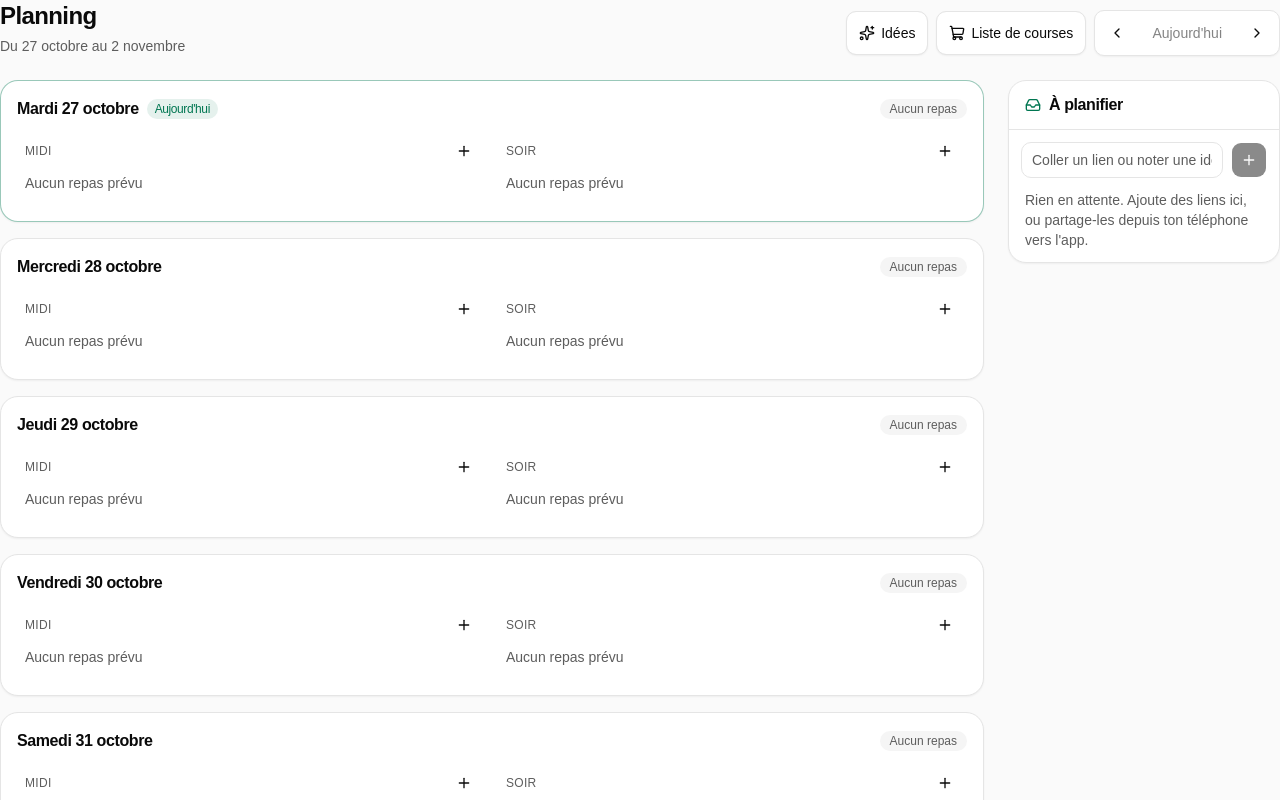
it: PlanningPage — idées de repas › ignore une idée déjà dans « À planifier », et garde la fenêtre ouverte en cas d’erreur
What coordinates should you click on to do the following:
click the button with aria-label "Idées de repas"
I would click on:
 (887, 33)
Its box is [846, 11, 928, 55].
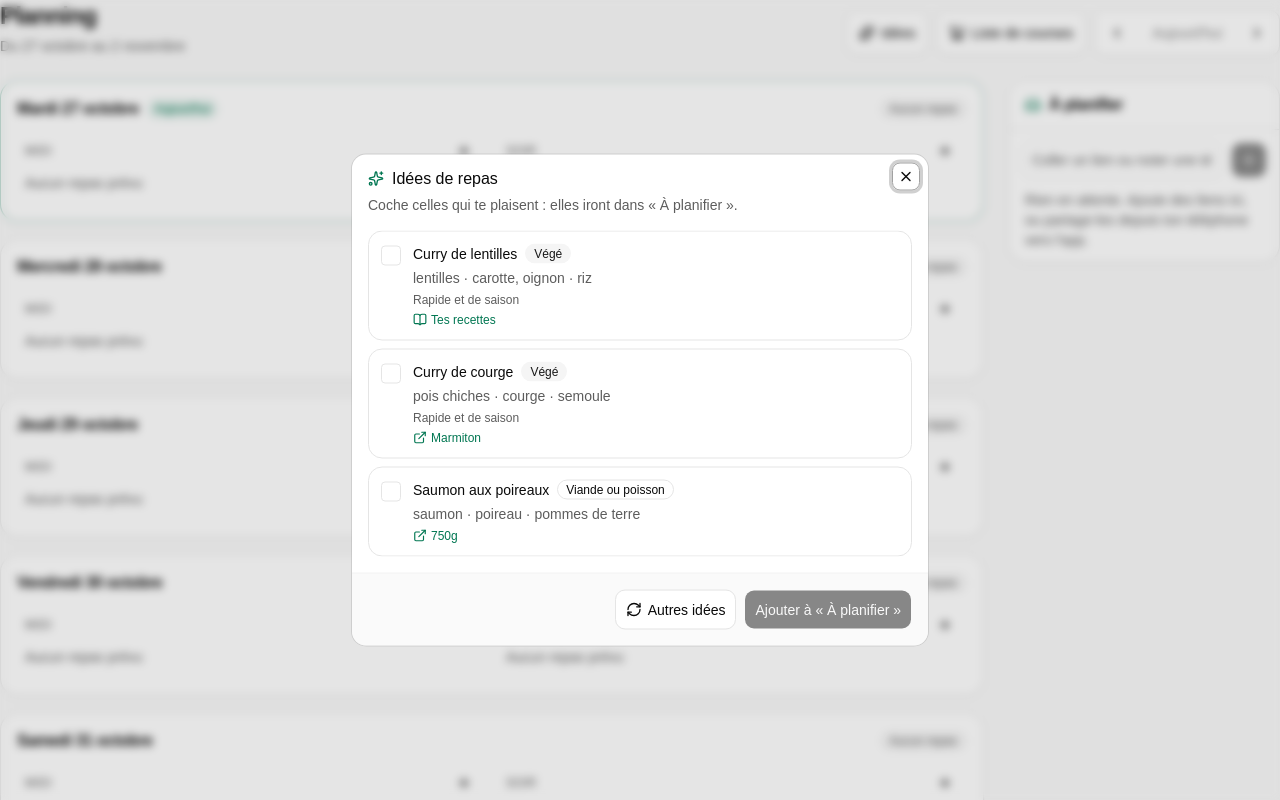
Expected: the list named "Idées proposées" is shown, [368, 230, 912, 556]
What coordinates should you click on to do the following:
click the checkbox named "Curry de lentilles" next to "Curry de lentilles"
I would click on:
 (391, 256)
Its box is [381, 246, 401, 266].
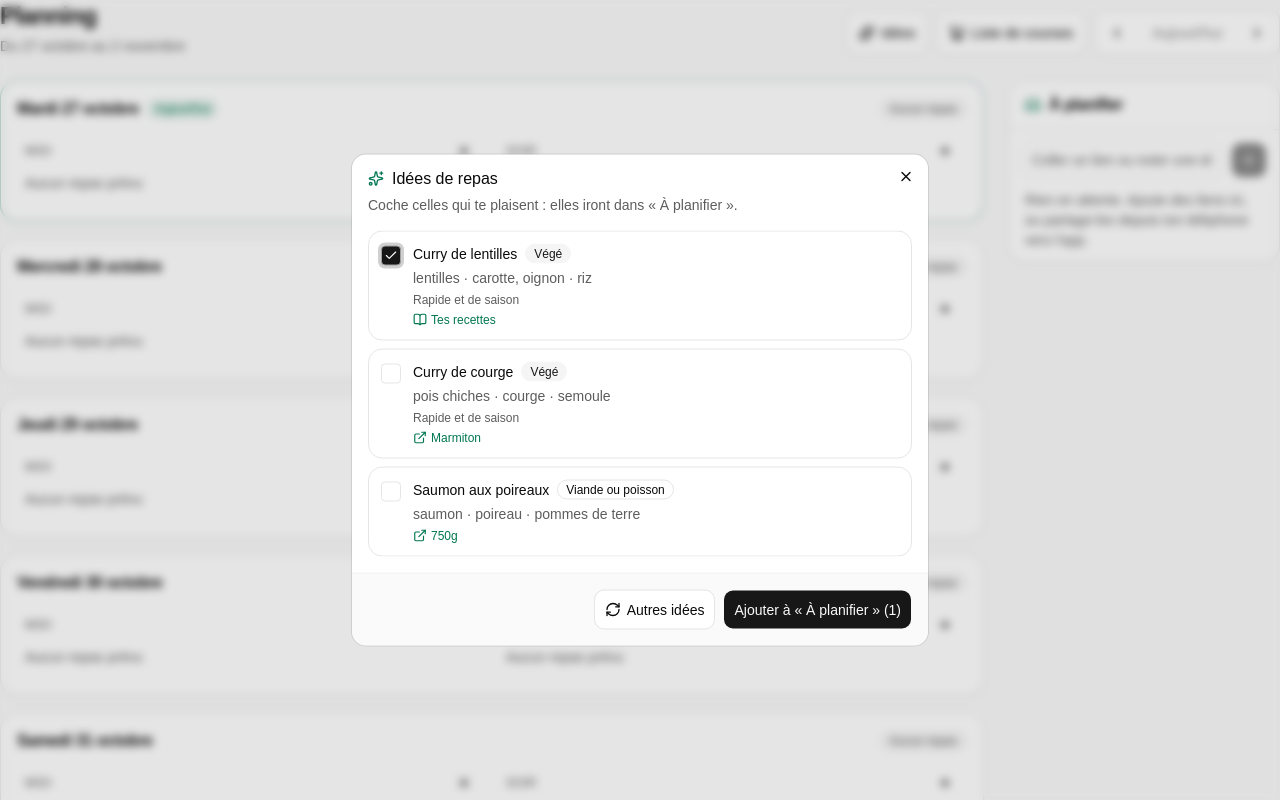
What coordinates should you click on to do the following:
click the button "Ajouter à « À planifier » (1)"
I would click on:
 (818, 610)
Its box is [724, 590, 912, 630].
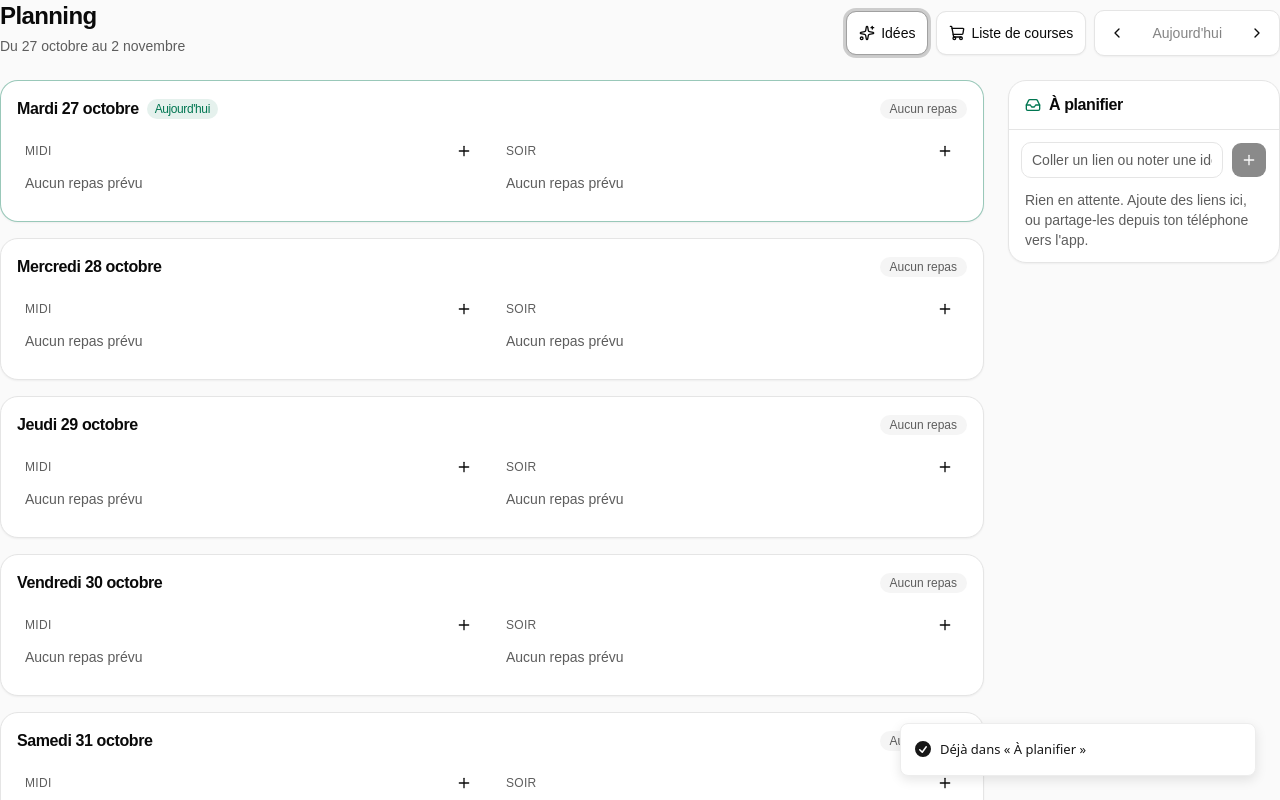
Expected: the text "Déjà dans « À planifier »" is shown, [940, 740, 1086, 759]
What coordinates should you click on to do the following:
click the button with aria-label "Idées de repas"
I would click on:
 (887, 33)
Its box is [846, 11, 928, 55].
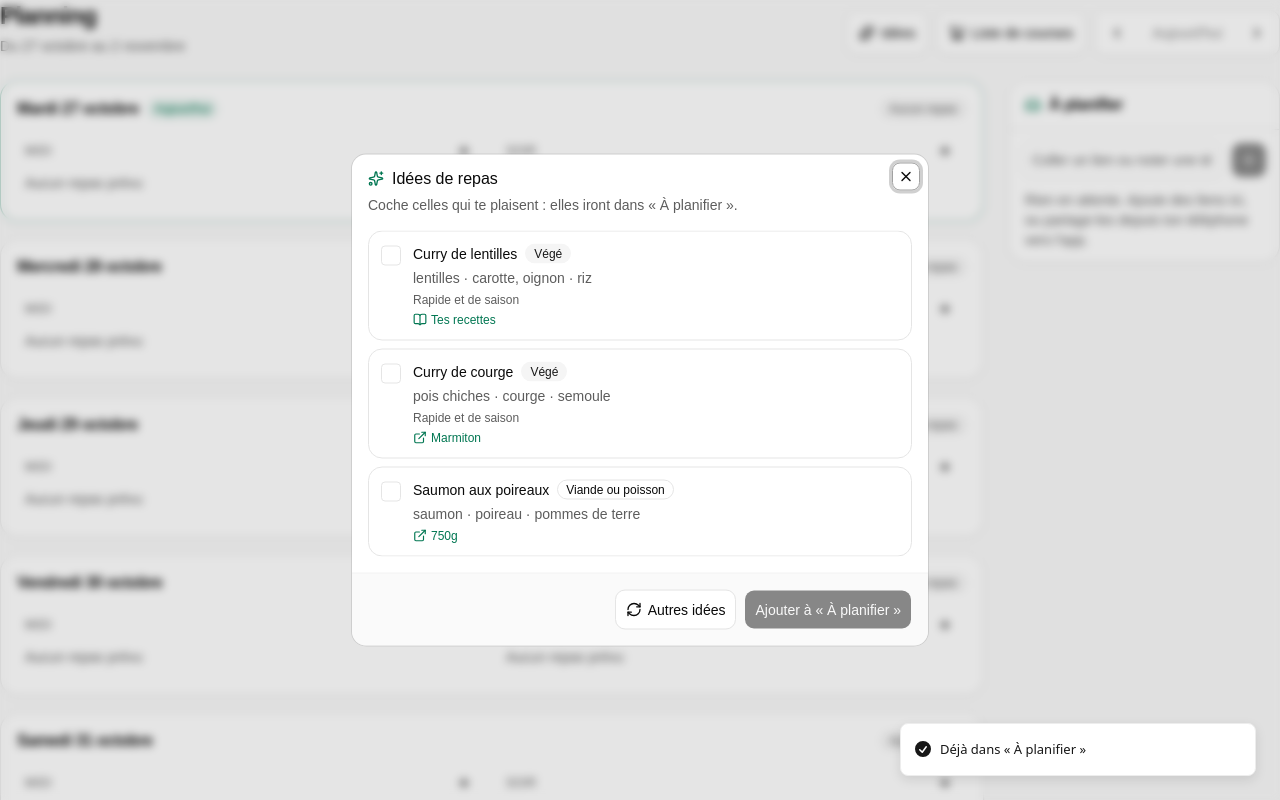
Expected: the list named "Idées proposées" is shown, [368, 230, 912, 556]
What coordinates should you click on to do the following:
click the checkbox named "Curry de courge" next to "Curry de courge"
I would click on:
 (391, 374)
Its box is [381, 364, 401, 384].
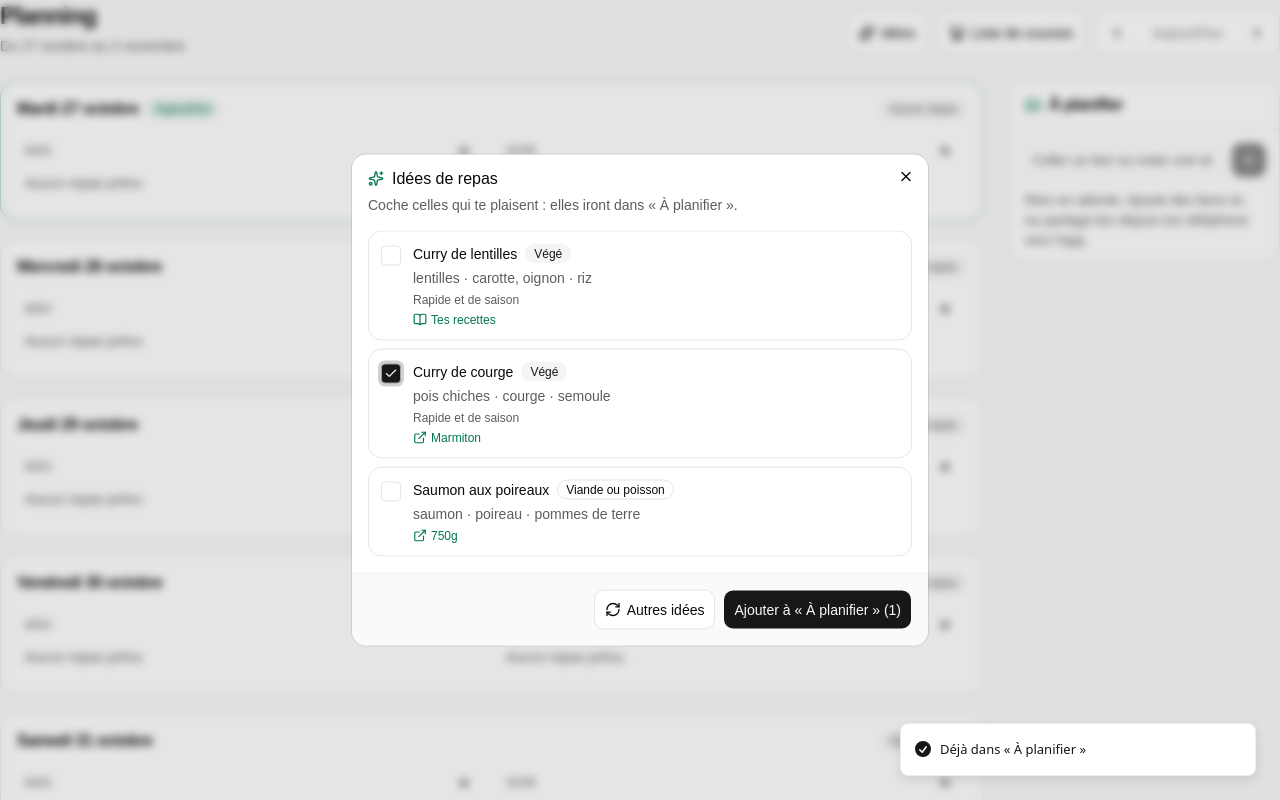
What coordinates should you click on to do the following:
click the button "Ajouter à « À planifier » (1)"
I would click on:
 (818, 610)
Its box is [724, 590, 912, 630].
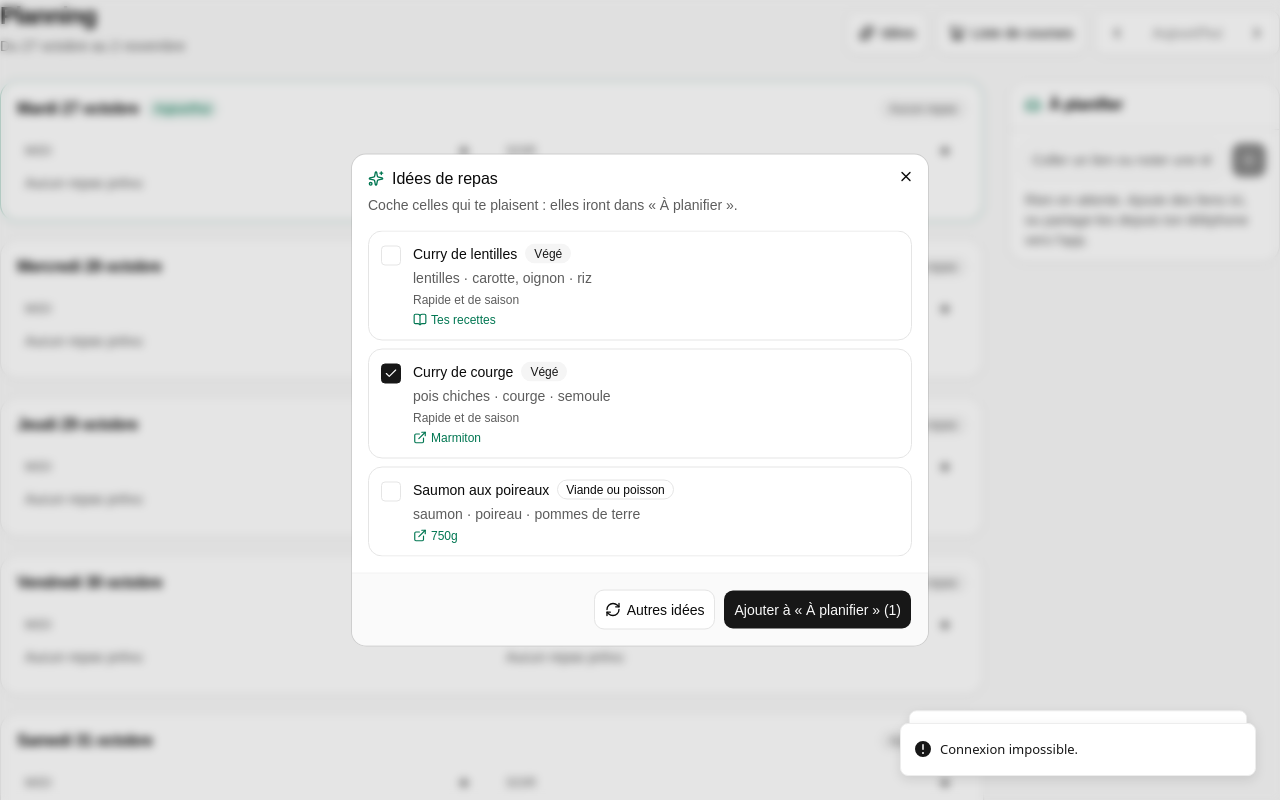
Expected: the dialog "Idées de repas" is shown, [352, 154, 928, 646]
Expected: the text "Connexion impossible." is shown, [940, 740, 1078, 759]
